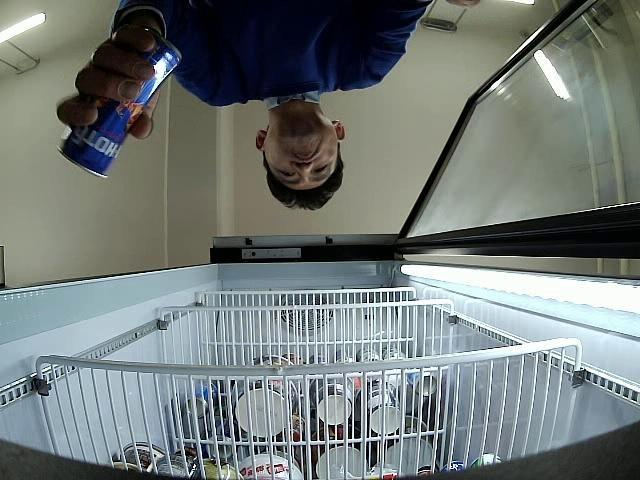16_hot6: (58, 29, 180, 179)
